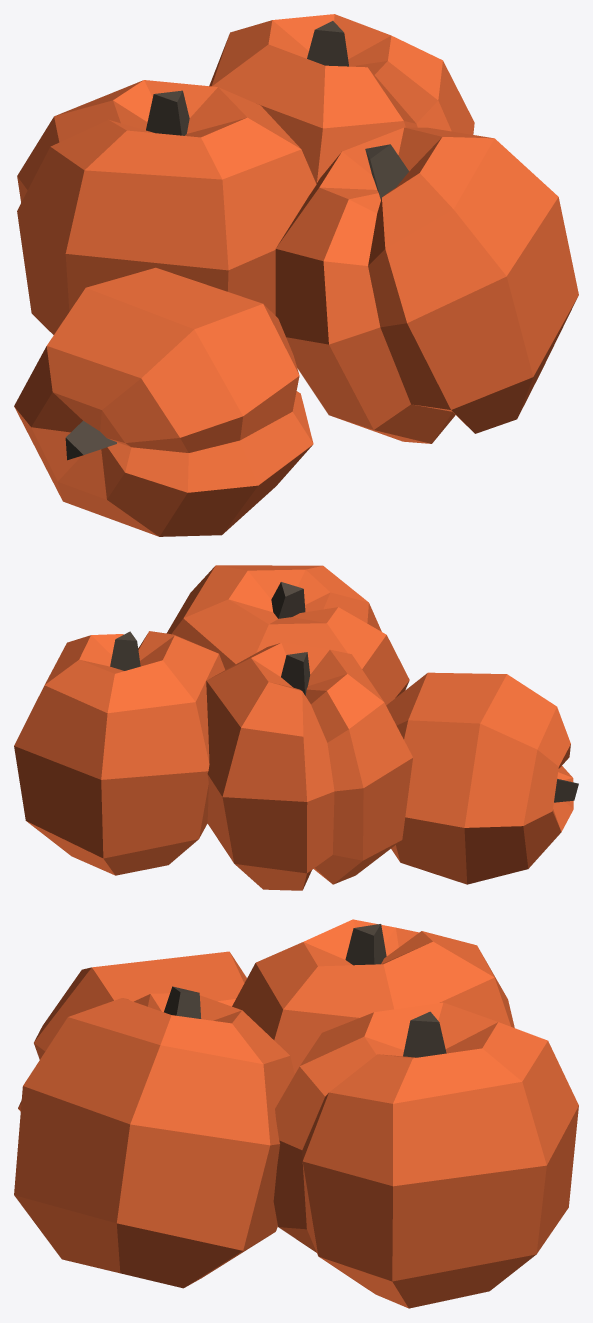
Rendered from SM_Prop_Apricot_01_Group.glb.
3 renders of one model, top to bottom at view 1: azimuth 30°, elevation 25°; view 2: azimuth 150°, elevation 25°; view 3: azimuth 270°, elevation 25°, orthographic. The views are drawn at different scales.
Parts seen in each view (by area): view 1: SM_Prop_Apricot_01_Group; view 2: SM_Prop_Apricot_01_Group; view 3: SM_Prop_Apricot_01_Group.
Boxes of the visible parts, x1,y1,x2,y2 form: SM_Prop_Apricot_01_Group: (14, 14, 578, 536); SM_Prop_Apricot_01_Group: (14, 565, 578, 890); SM_Prop_Apricot_01_Group: (14, 919, 578, 1308).
Bounding box in the file's own units: 0.2 × 0.1075 × 0.1857.
Materials: 1 (1 with a texture image).
